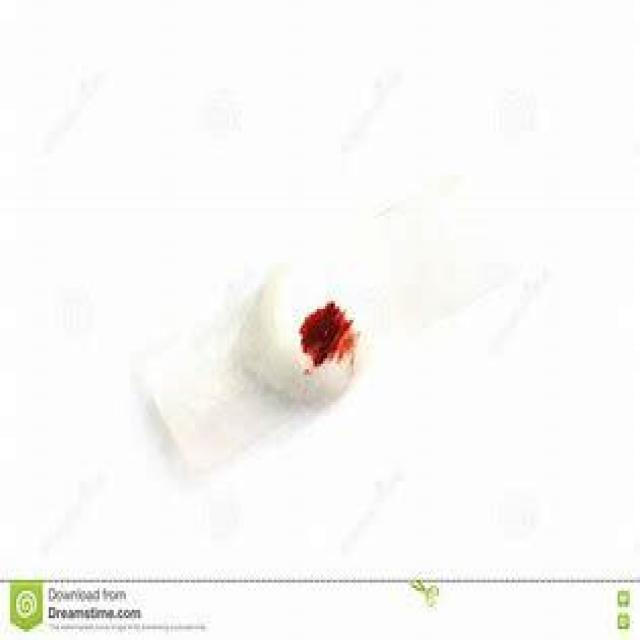wound: (278, 296, 382, 377)
